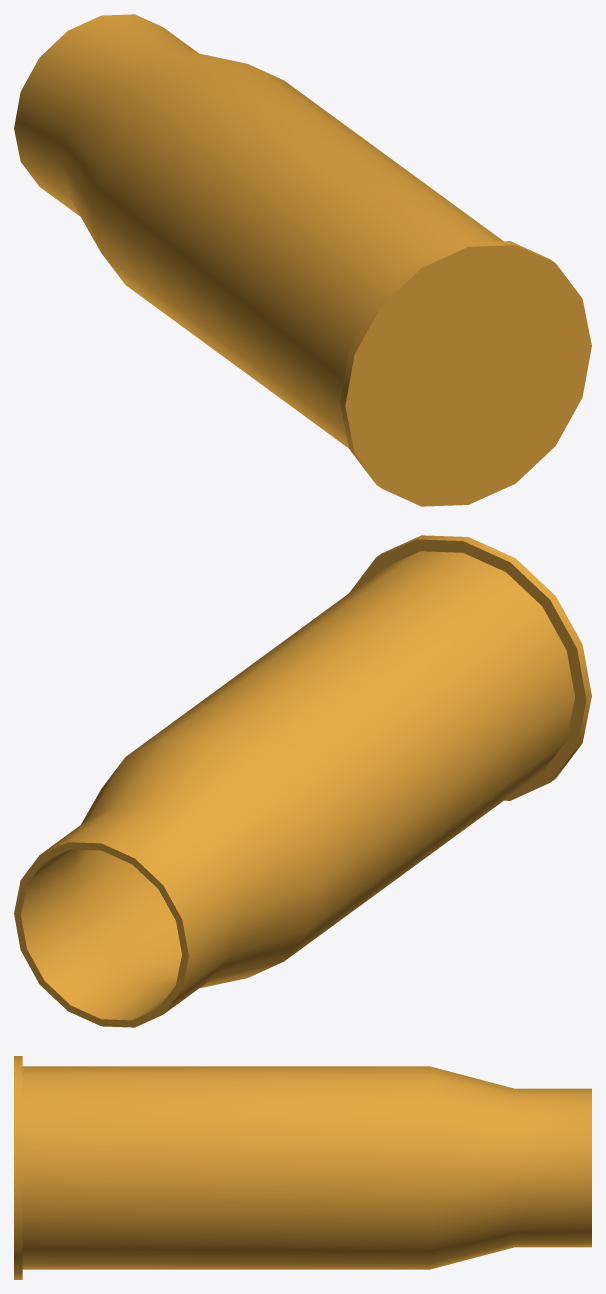
Rendered from 75panther_empty.fbx.
3 views of the same model, one above another, from view 1: azimuth 30°, elevation 25°; view 2: azimuth 150°, elevation 25°; view 3: azimuth 270°, elevation 25° (orthographic). The views are drawn at different scales.
Parts seen in each view (by area): view 1: Cylinder.001; view 2: Cylinder.001; view 3: Cylinder.001.
Boxes of the visible parts, left/top/right/bottom form: Cylinder.001: left=14, top=14, right=591, bottom=506; Cylinder.001: left=14, top=535, right=591, bottom=1027; Cylinder.001: left=14, top=1056, right=591, bottom=1279.
Size of the model in its own units: 110 by 110 by 284.
